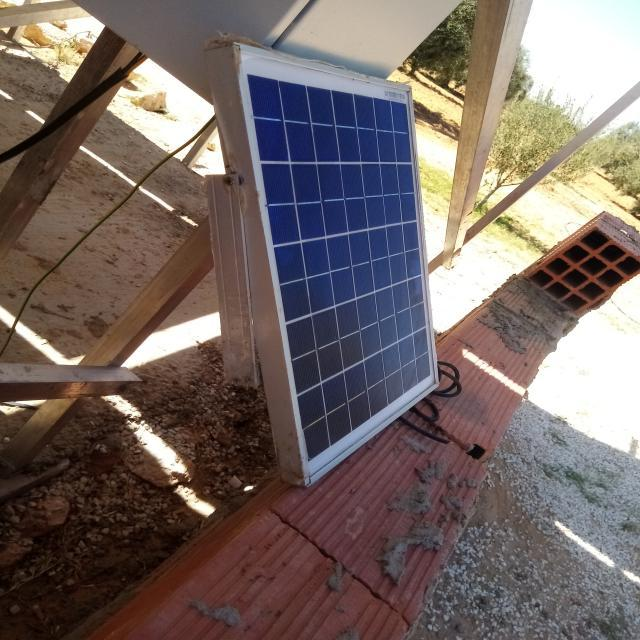no faulty: (235, 45, 439, 483)
